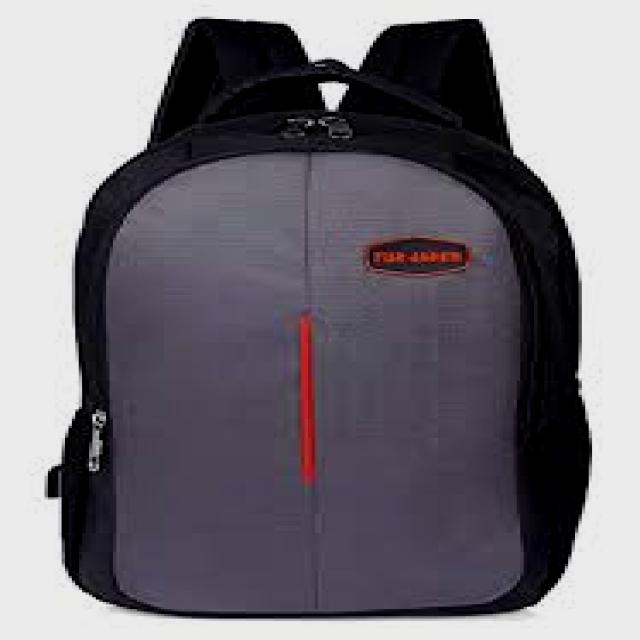backpack: (46, 16, 594, 620)
